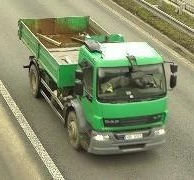truck: (17, 16, 177, 157)
